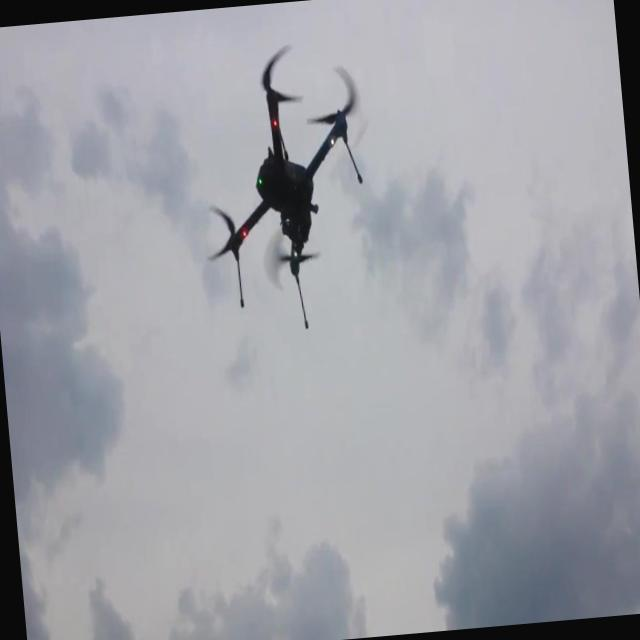drone: (188, 37, 378, 331)
